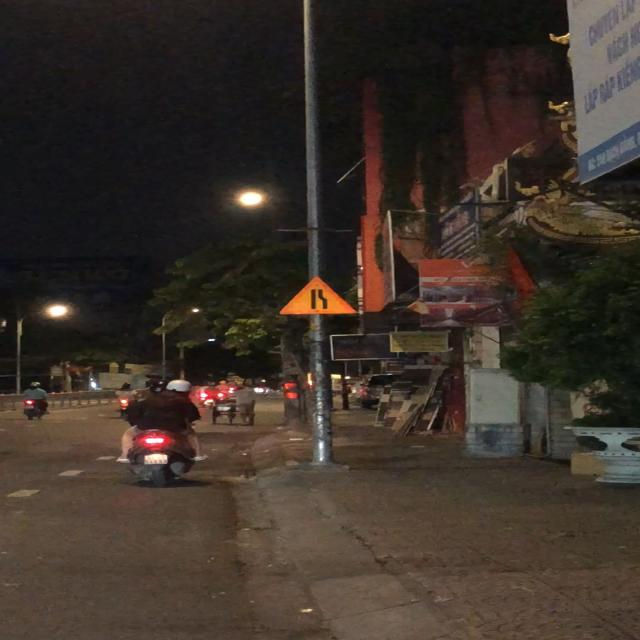Bien bao duong bi thu hep: (276, 276, 359, 316)
